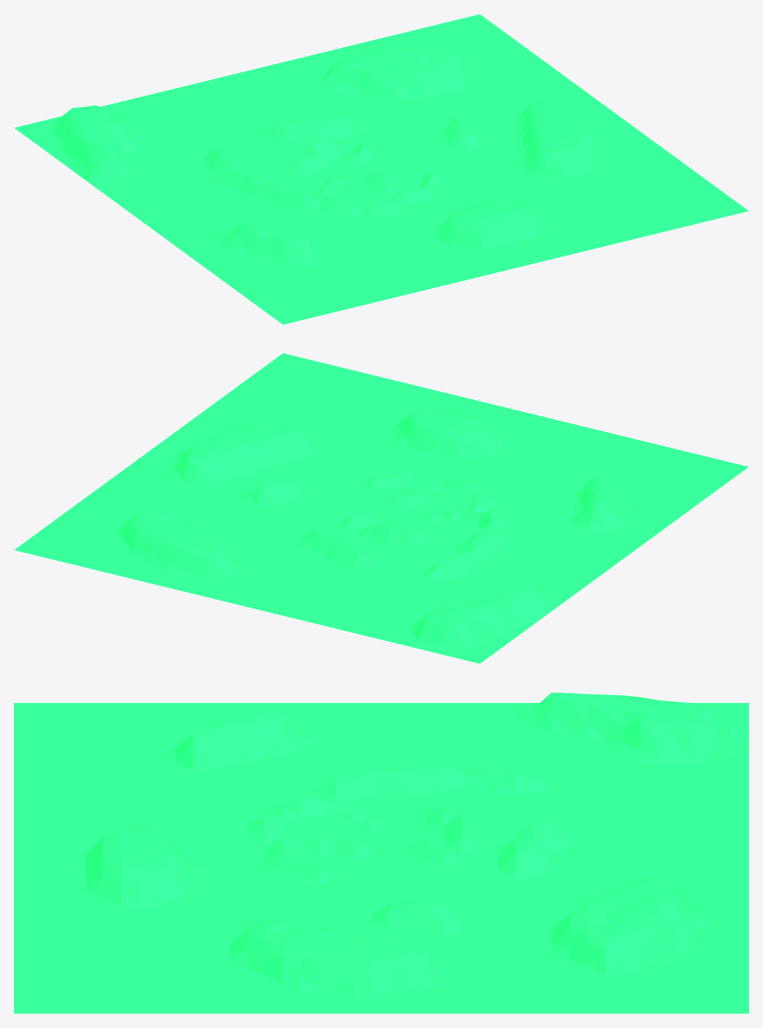
The picture shows the model from 3 angles, top to bottom: view 1: azimuth 30°, elevation 25°; view 2: azimuth 150°, elevation 25°; view 3: azimuth 270°, elevation 25°; orthographic projection. The views are drawn at different scales.
Visible parts, largest first — view 1: Hills; view 2: Hills; view 3: Hills.
Boxes of the visible parts, x1=… form: Hills: x1=14, y1=14, x2=748, y2=324; Hills: x1=14, y1=353, x2=748, y2=663; Hills: x1=14, y1=692, x2=748, y2=1013.
Bounding box in the file's own units: 2 × 2 × 0.0811.
